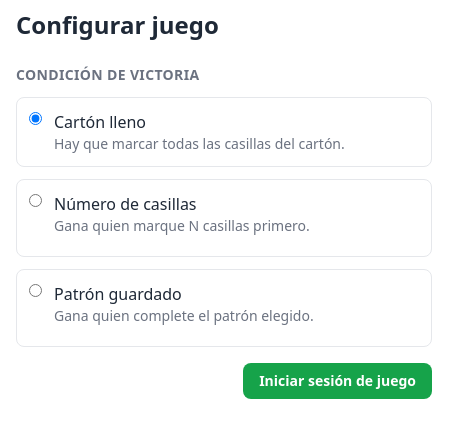
Scenario: ConfiguracionJuego › al seleccionar patrón con patrones disponibles muestra el dropdown
This screenshot has width=449, height=447.
Click the radio button labelled "Patrón guardado Gana quien complete el patrón elegido." at (36, 290), box [29, 284, 42, 297]
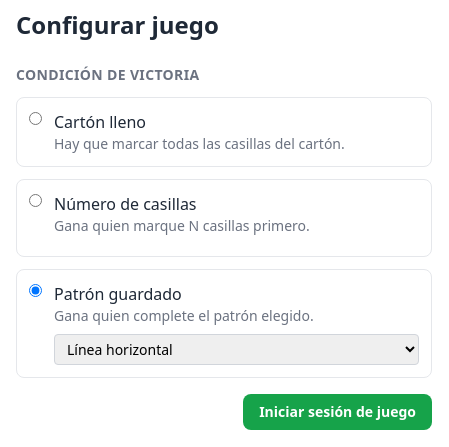
Expected: the dropdown named "seleccionar patrón" is shown, [54, 334, 419, 365]
